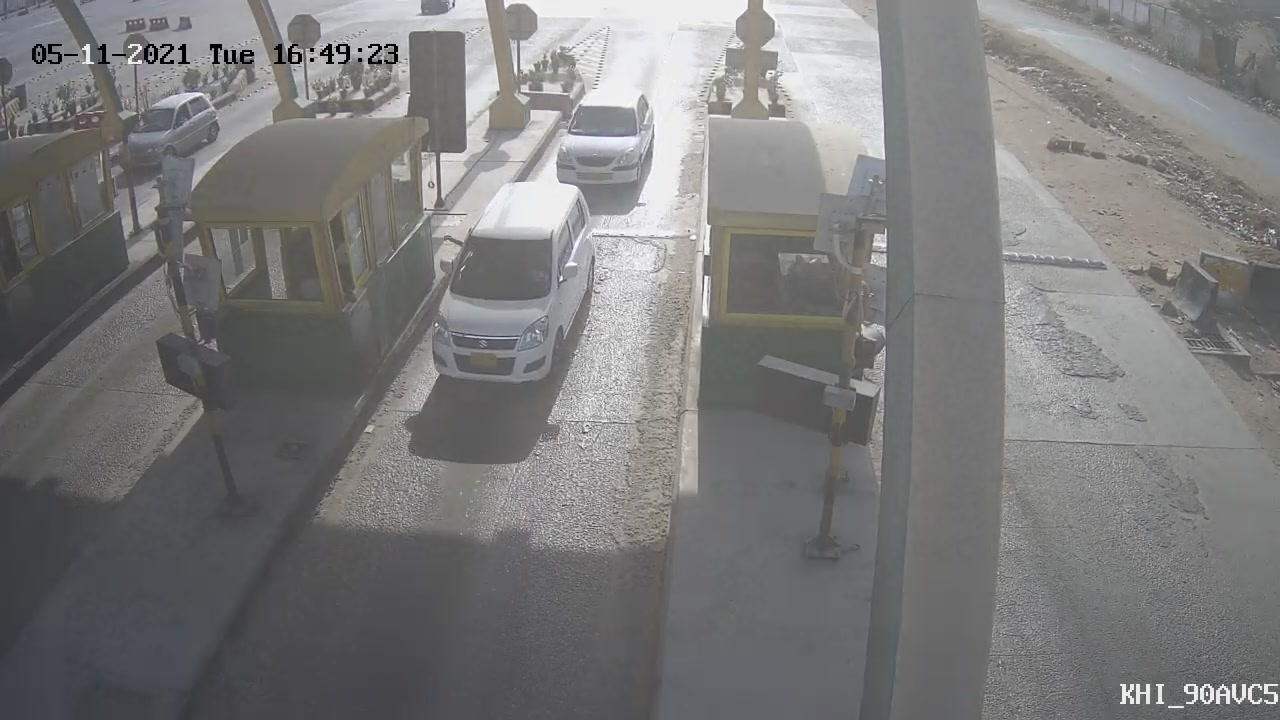F1: (400, 164, 614, 401), (537, 77, 665, 203)
